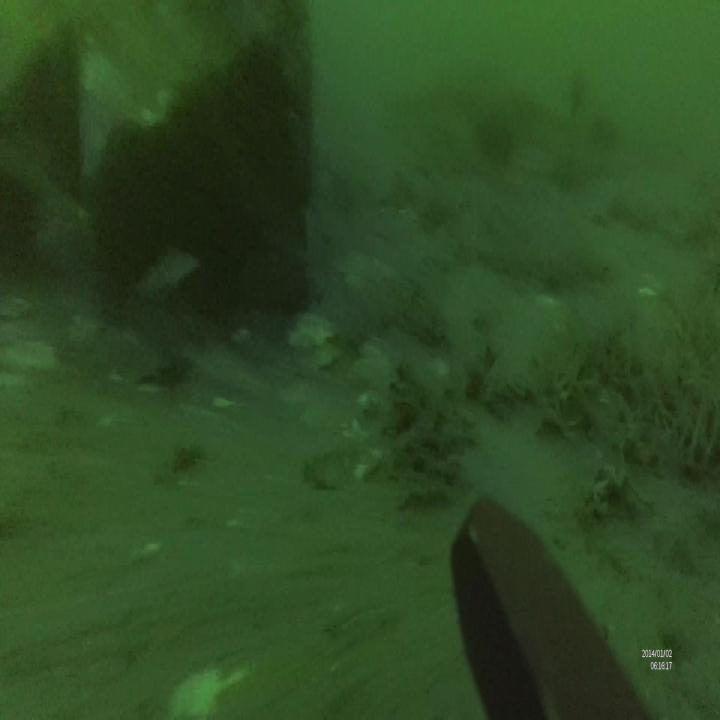starfish: (336, 244, 395, 296), (354, 340, 401, 400), (290, 308, 336, 354), (300, 336, 338, 380)
